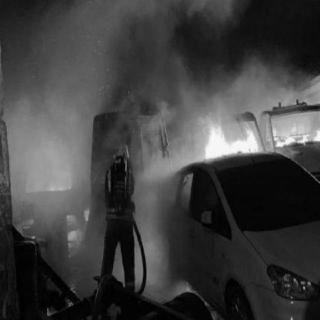Fire: (201, 119, 263, 162)
Smoke: (6, 5, 98, 222)
